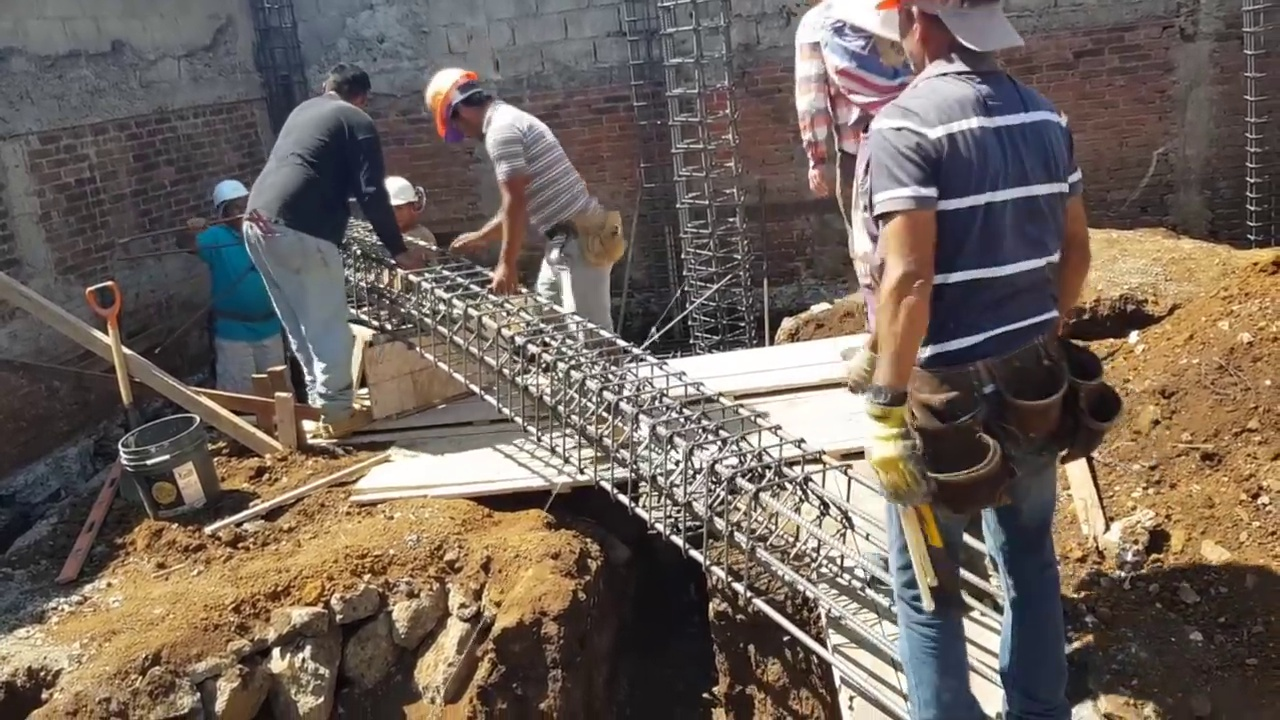helmet: (432, 46, 492, 118), (381, 174, 418, 209), (209, 179, 255, 205)
helmet-off: (896, 2, 1021, 82), (320, 65, 368, 109)
helmet-on: (791, 0, 919, 234), (426, 61, 501, 145), (382, 174, 422, 234), (211, 177, 252, 229)
person: (853, 0, 1109, 720), (248, 70, 416, 443), (434, 60, 630, 343), (191, 168, 284, 393), (372, 175, 427, 258)
